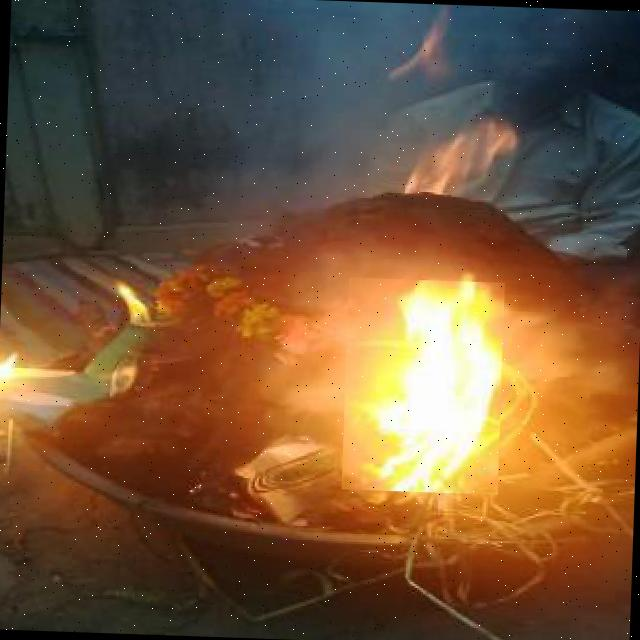fire: (342, 277, 504, 494)
